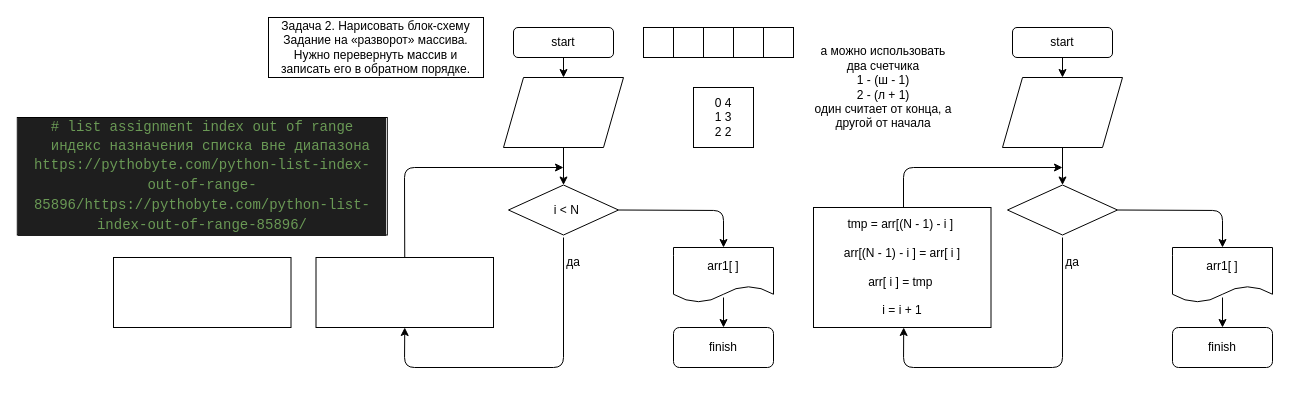
The diagram is 1291 pixels wide and 393 high, and some of its shapes have lost their labels. The centre of each missing label's shape, as x and y in pixels:
"arr_1[(N - 1) - i ] = arr[ i ] i = i + 1" belongs at [404,292].
"arr_1[(N - 1)] = arr[ i ] N = N - 1 i = i + 1" belongs at [201,292].
"i < N/2" belongs at [1062,209].
"N arr[ ] arr_1[ ] i = 0" belongs at [563,112].
"N arr[ ] i = 0" belongs at [1062,112].
